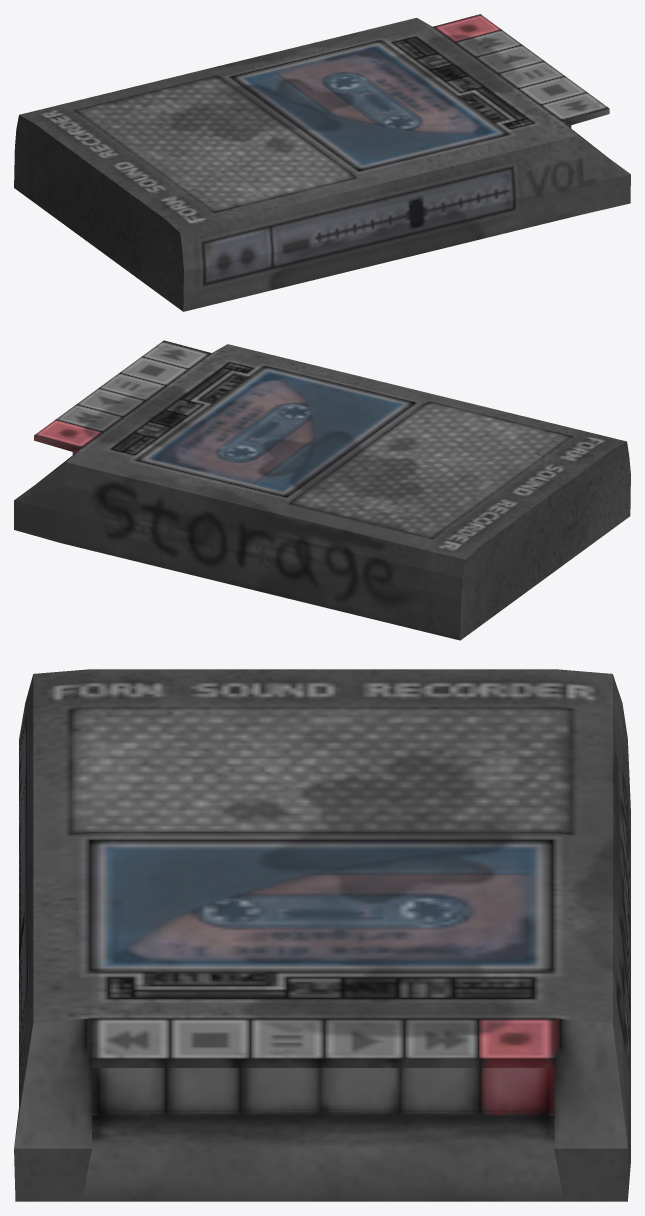
The model's file is other_taperecorder.dae.
3 renders of one model, top to bottom at view 1: azimuth 30°, elevation 25°; view 2: azimuth 150°, elevation 25°; view 3: azimuth 270°, elevation 25°, orthographic. The views are drawn at different scales.
Parts seen in each view (by area): view 1: taperecorder; view 2: taperecorder; view 3: taperecorder.
Boxes of the visible parts, x1,y1,x2,y2 form: taperecorder: [14, 14, 630, 311]; taperecorder: [14, 340, 630, 640]; taperecorder: [14, 669, 630, 1201].
Size of what is drawn, in the model's own units: 0.3012 by 0.052 by 0.2007.
Materials: 1 (1 with a texture image).
